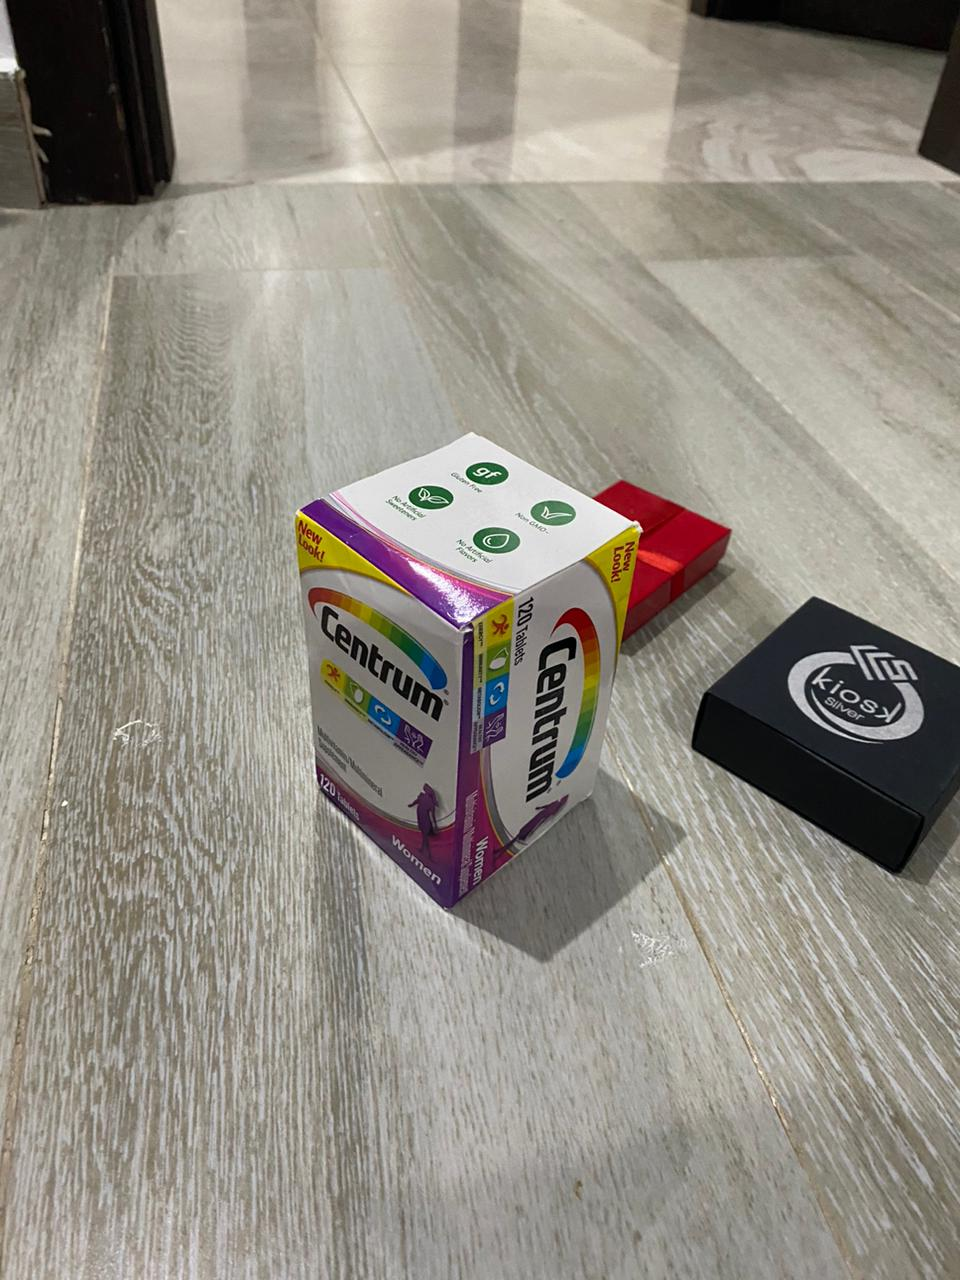Black Box: (586, 475, 735, 638)
Centrum: (287, 429, 645, 913)
Red Box: (699, 592, 960, 894)
